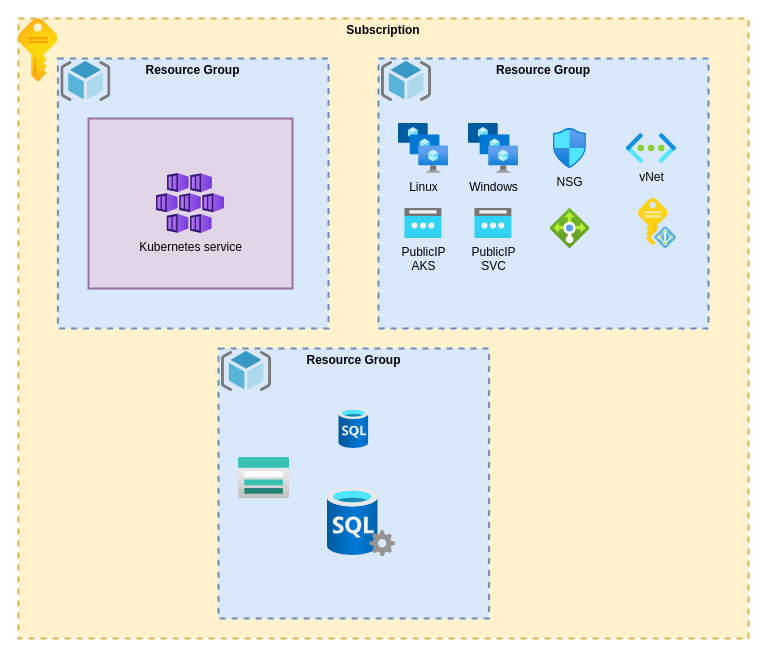
This 766x656 diagram has some shape labels left out. Each missing label, with the box of its shape:
AKS Cluster: (87, 117, 293, 289)
Load Balance: (550, 208, 590, 248)
Managed Identity: (638, 198, 676, 248)
SQL database: (338, 408, 368, 448)
SQL Server: (327, 488, 395, 556)
Storage Account: (238, 457, 289, 498)
